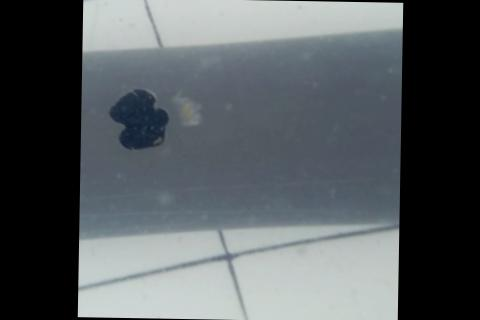kebocoran: (107, 86, 172, 152)
